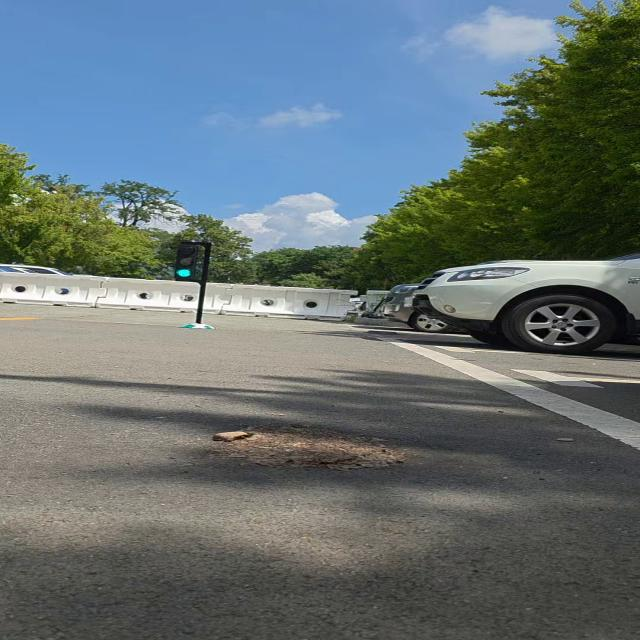green: (172, 241, 201, 280)
